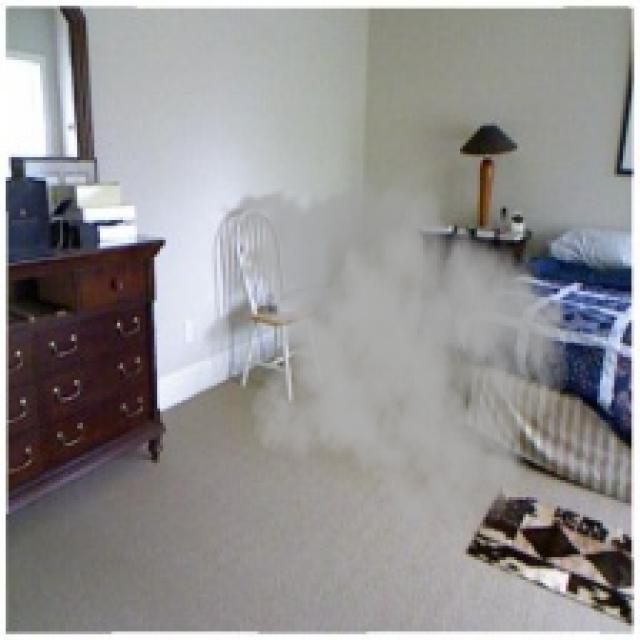Smoke: (214, 168, 572, 543)
